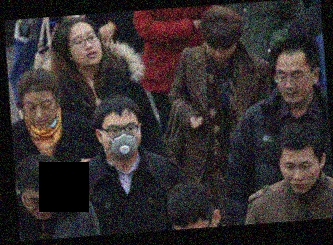with_mask: (101, 119, 142, 160)
without_mask: (280, 156, 319, 194), (275, 64, 312, 104), (69, 27, 103, 69), (20, 190, 63, 222), (23, 95, 58, 129), (206, 41, 234, 63)
